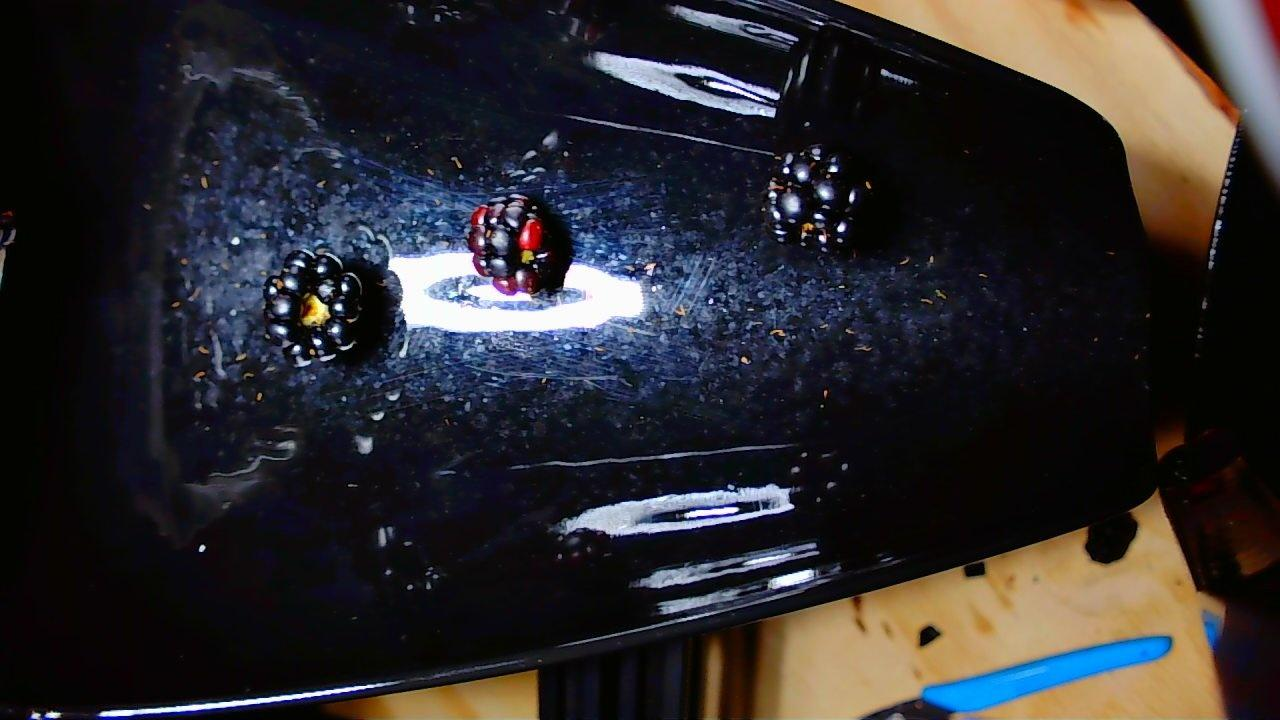berry: (764, 145, 872, 251), (264, 249, 362, 365), (464, 193, 569, 294)
